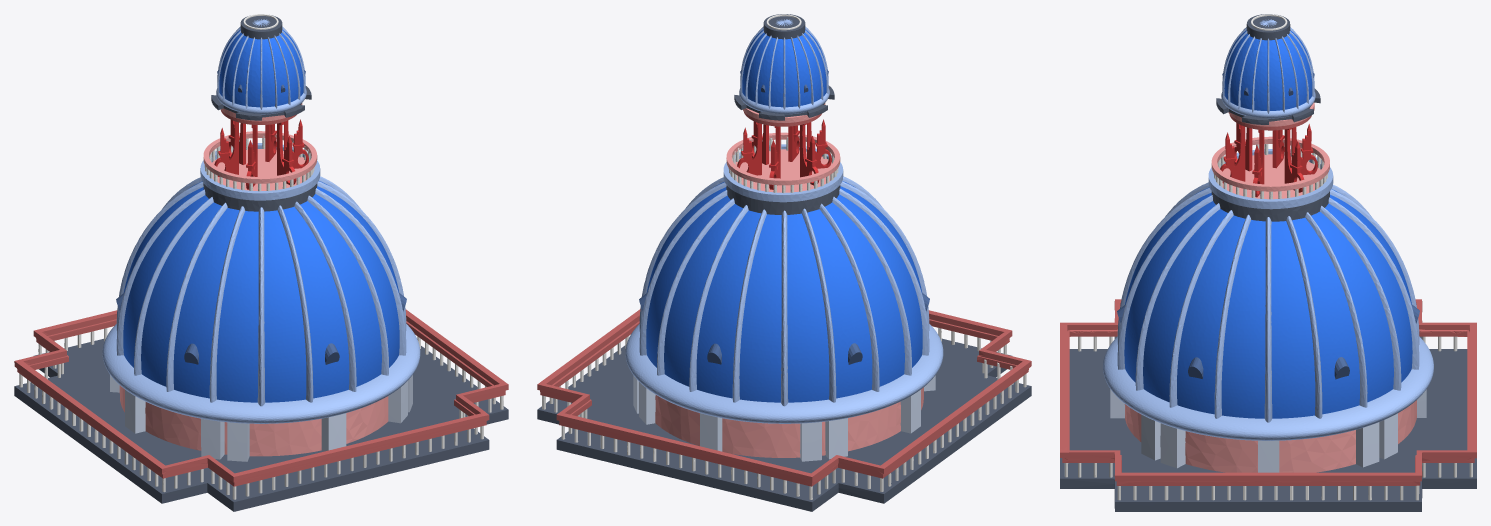
The model's file is VEN_Stock_03_LOD1.glb.
3 renders of one model, left to right at view 1: azimuth 30°, elevation 25°; view 2: azimuth 150°, elevation 25°; view 3: azimuth 270°, elevation 25°, orthographic. The views are drawn at different scales.
Parts seen in each view (by area): view 1: Sphere, Box (×2), Torus (×2), Box 1, Cylinder 5, Sphere 1, Cylinder 15, Cylinder 9, Cylinder (×3), Torus 2, Cylinder 6, Cylinder 3 (+3 smaller); view 2: Sphere, Box (×2), Torus (×2), Box 1, Cylinder 5, Sphere 1, Cylinder 15, Cylinder (×3), Cylinder 9, Torus 2, Cylinder 6, Cylinder 3 (+3 smaller); view 3: Sphere, Box (×2), Torus (×2), Box 1, Cylinder 5, Sphere 1, Cylinder 9, Cylinder (×3), Cylinder 15, Torus 2, Cylinder 6, Cylinder 3 (+3 smaller).
Boxes of the visible parts, x1=… form: Sphere: x1=123, y1=181, x2=399, y2=402; Box (×2): x1=14, y1=338, x2=508, y2=511; Torus (×2): x1=102, y1=176, x2=420, y2=423; Box 1: x1=14, y1=309, x2=508, y2=486; Cylinder 5: x1=119, y1=385, x2=388, y2=456; Sphere 1: x1=219, y1=30, x2=303, y2=107; Cylinder 15: x1=19, y1=328, x2=503, y2=499; Cylinder 9: x1=214, y1=119, x2=308, y2=189; Cylinder (×3): x1=203, y1=86, x2=317, y2=211; Torus 2: x1=217, y1=19, x2=305, y2=109; Cylinder 6: x1=200, y1=143, x2=320, y2=200; Cylinder 3: x1=203, y1=131, x2=317, y2=183; Sphere: x1=646, y1=181, x2=922, y2=402; Box (×2): x1=537, y1=338, x2=1031, y2=511; Torus (×2): x1=625, y1=176, x2=943, y2=423; Box 1: x1=537, y1=309, x2=1031, y2=486; Cylinder 5: x1=655, y1=387, x2=923, y2=457; Sphere 1: x1=742, y1=29, x2=826, y2=107; Cylinder 15: x1=542, y1=328, x2=1026, y2=499; Cylinder (×3): x1=726, y1=85, x2=840, y2=214; Cylinder 9: x1=737, y1=119, x2=831, y2=189; Torus 2: x1=740, y1=19, x2=828, y2=109; Cylinder 6: x1=723, y1=144, x2=843, y2=202; Cylinder 3: x1=726, y1=132, x2=840, y2=185; Sphere: x1=1124, y1=187, x2=1412, y2=418; Box (×2): x1=1060, y1=336, x2=1476, y2=511; Torus (×2): x1=1103, y1=182, x2=1433, y2=440; Box 1: x1=1060, y1=299, x2=1476, y2=485; Cylinder 5: x1=1124, y1=400, x2=1416, y2=472; Sphere 1: x1=1224, y1=30, x2=1312, y2=110; Cylinder 9: x1=1220, y1=123, x2=1317, y2=197; Cylinder (×3): x1=1211, y1=88, x2=1329, y2=221; Cylinder 15: x1=1064, y1=336, x2=1472, y2=500; Torus 2: x1=1222, y1=19, x2=1314, y2=113; Cylinder 6: x1=1208, y1=149, x2=1333, y2=209; Cylinder 3: x1=1211, y1=136, x2=1329, y2=191.
Bounding box in the file's own units: 1.62 × 1.73 × 1.62.
